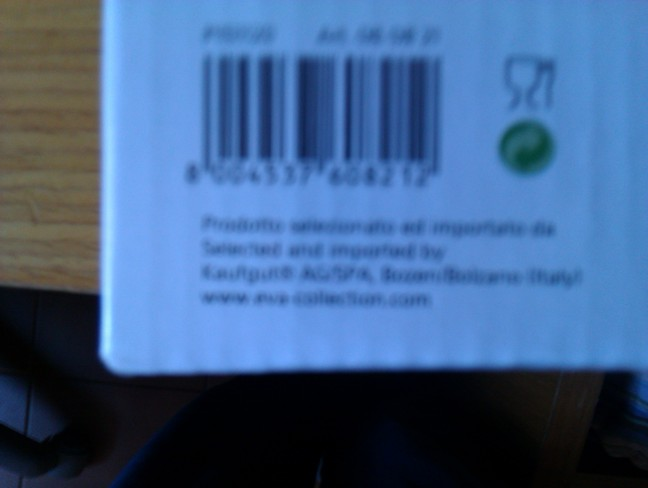detection: (160, 54, 460, 193)
